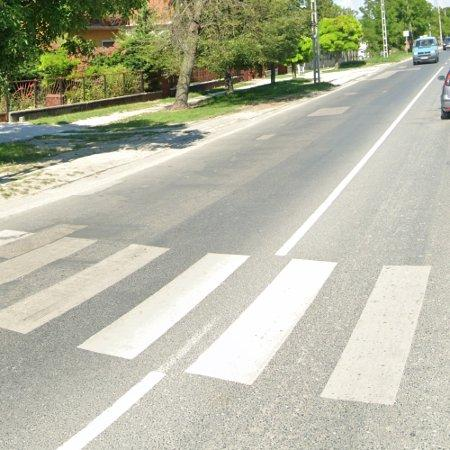crosswalks: (0, 228, 433, 405)
